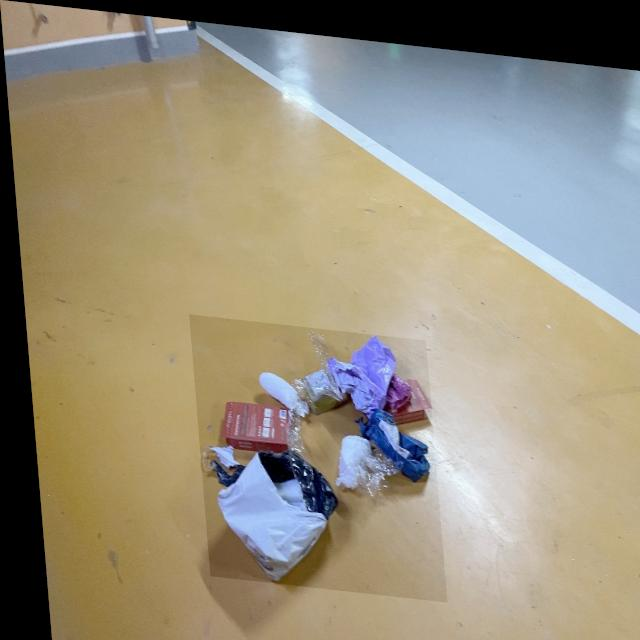garbage: (184, 310, 438, 593)
